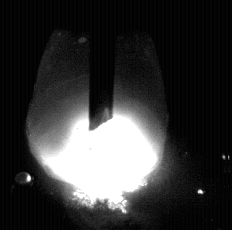arame: (90, 0, 114, 130)
poca: (26, 0, 167, 230)
